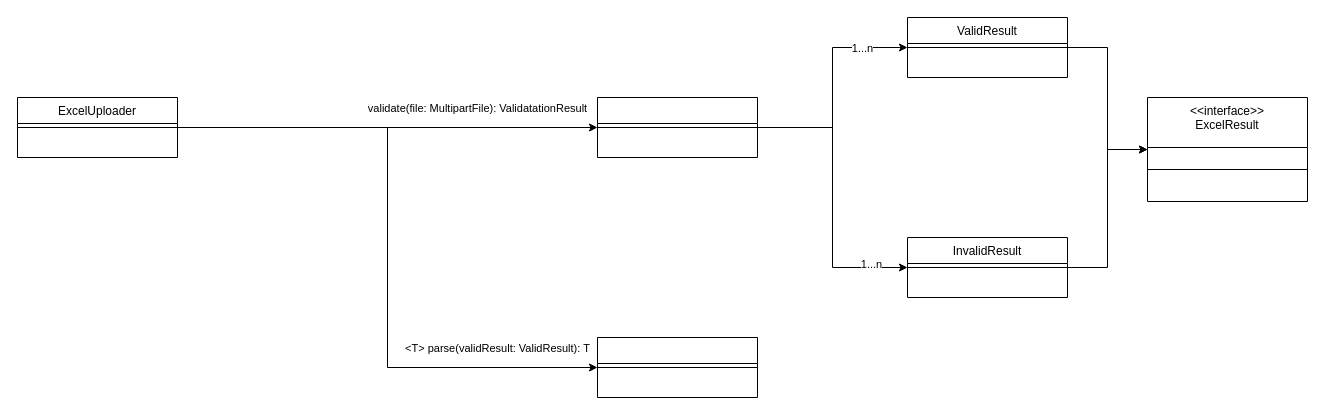
Some shapes in this 1325 by 415 pixel diagram are drawn without their labels. The centre of each missing label's shape, as x and y in pixels:
ExcelParser: [677,367]
ExcelValidator: [677,127]
